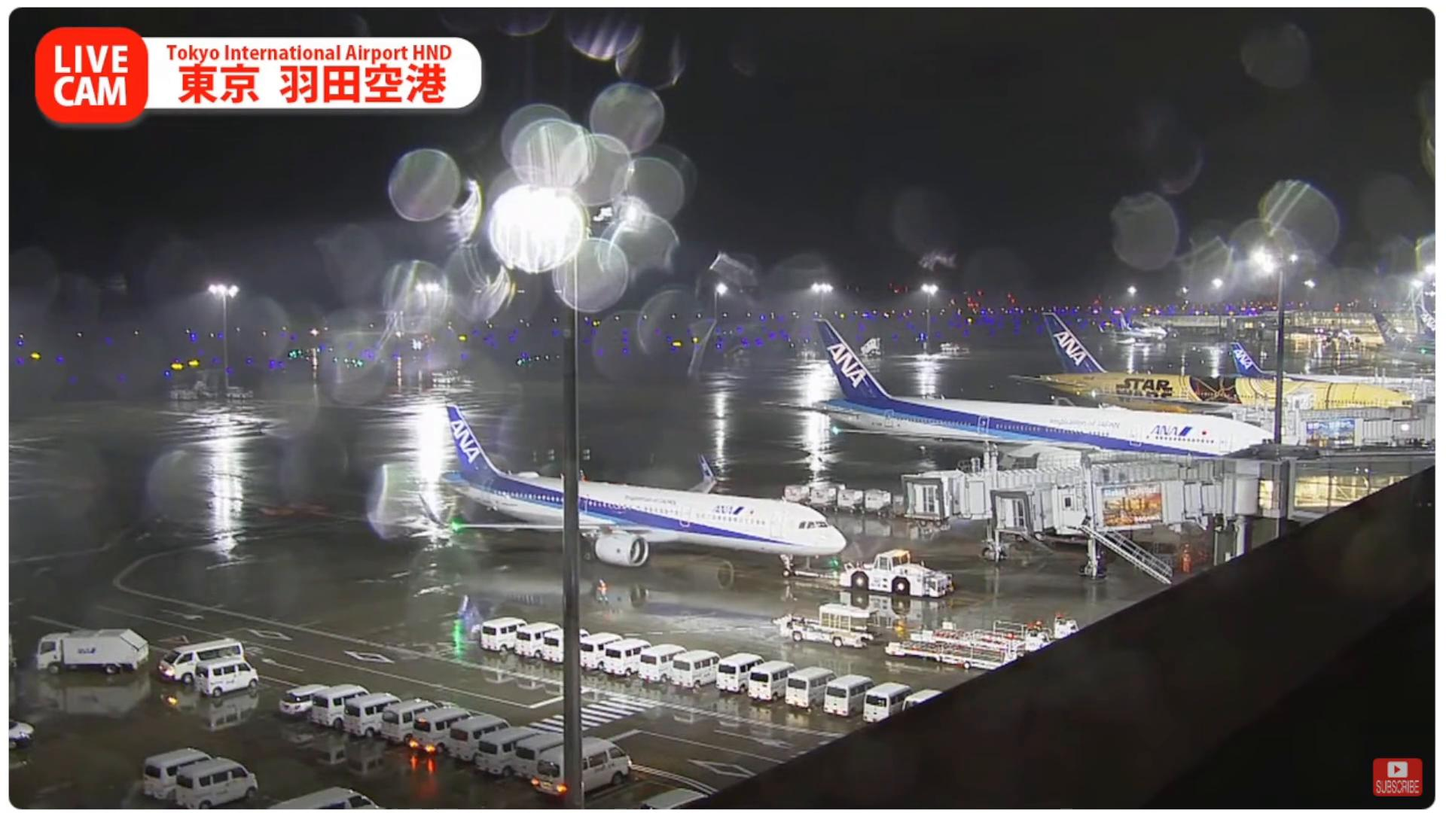APS: (833, 548, 956, 602)
Aerobridge: (898, 461, 1193, 525), (988, 473, 1227, 539)
Airplane: (422, 404, 855, 583)
Baggage truck: (34, 626, 152, 676)
Dolly: (780, 478, 895, 519)
JCPL: (914, 617, 1081, 654), (884, 636, 1033, 667)
Skyloader: (771, 602, 883, 649)
Window: (1289, 476, 1414, 509)
